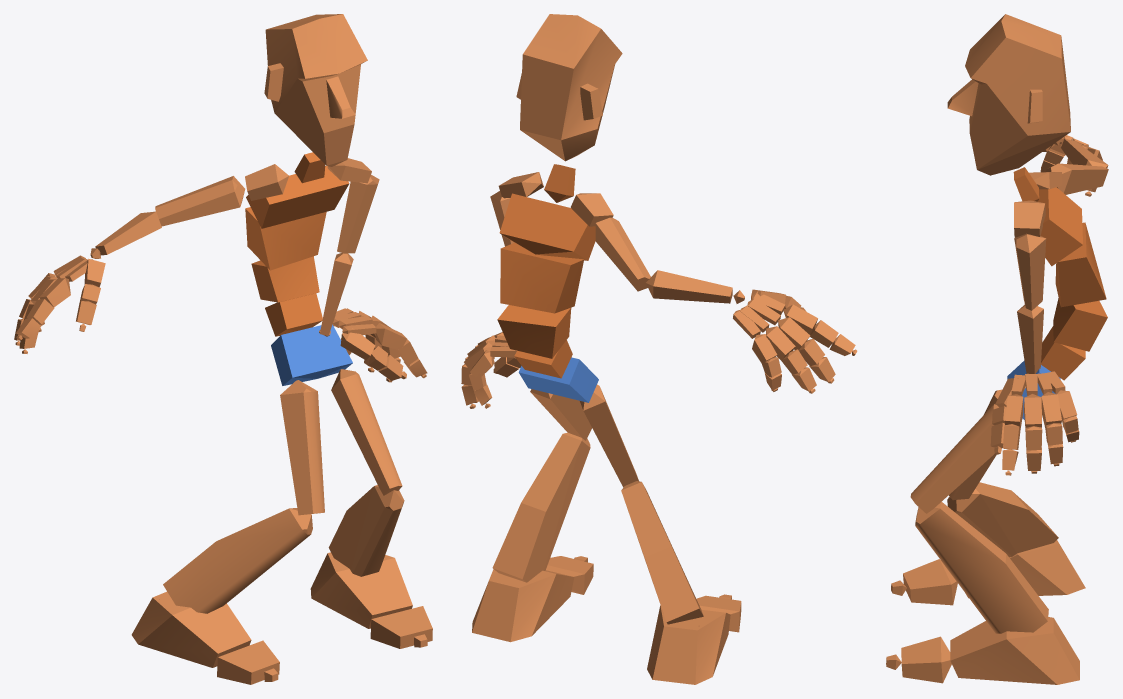
3 renders of one model, left to right at view 1: azimuth 30°, elevation 25°; view 2: azimuth 150°, elevation 25°; view 3: azimuth 270°, elevation 25°, orthographic. The views are drawn at different scales.
Visible parts, largest first — view 1: BOPED_Head, BOPED_R_leg, BOPED_R_foot, BOPED_R_foot01, BOPED_R_legup, BOPED_L_leg, BOPED_L_legup, Bone01, Bone04, Bone05, BOPED_R_arm_upper, Bone03 (+10 smaller); view 2: BOPED_Head, BOPED_L_leg, BOPED_R_foot01, BOPED_R_foot, BOPED_R_leg, Bone04, Bone05, Bone03, BOPED_R_legup, BOPED_R_arm_upper, BOPED_R_arm_fore, Bone01 (+7 smaller); view 3: BOPED_Head, BOPED_L_leg, BOPED_R_foot01, BOPED_R_leg, BOPED_L_legup, BOPED_R_foot, Bone05, Bone04, Bone03, BOPED_R_foot_toe01, BOPED_R_foot_toe04, BOPED_L_arm_upper (+16 smaller).
Boxes of the visible parts, bbox=[...] form: BOPED_Head: bbox=[264, 14, 367, 166]; BOPED_R_leg: bbox=[163, 508, 312, 613]; BOPED_R_foot: bbox=[131, 591, 251, 667]; BOPED_R_foot01: bbox=[310, 552, 412, 628]; BOPED_R_legup: bbox=[280, 380, 324, 515]; BOPED_L_leg: bbox=[328, 485, 404, 576]; BOPED_L_legup: bbox=[331, 369, 402, 495]; Bone01: bbox=[271, 324, 352, 385]; Bone04: bbox=[245, 207, 326, 270]; Bone05: bbox=[246, 166, 349, 228]; BOPED_R_arm_upper: bbox=[155, 176, 245, 226]; Bone03: bbox=[251, 256, 319, 302]; BOPED_Head: bbox=[516, 14, 622, 161]; BOPED_L_leg: bbox=[492, 432, 590, 582]; BOPED_R_foot01: bbox=[472, 569, 574, 642]; BOPED_R_foot: bbox=[647, 605, 730, 684]; BOPED_R_leg: bbox=[621, 481, 703, 624]; Bone04: bbox=[500, 243, 583, 313]; Bone05: bbox=[499, 193, 595, 260]; Bone03: bbox=[497, 305, 571, 358]; BOPED_R_legup: bbox=[580, 384, 638, 487]; BOPED_R_arm_upper: bbox=[595, 217, 650, 291]; BOPED_R_arm_fore: bbox=[646, 270, 732, 303]; Bone01: bbox=[518, 357, 598, 402]; BOPED_Head: bbox=[947, 14, 1070, 175]; BOPED_L_leg: bbox=[915, 501, 1048, 633]; BOPED_R_foot01: bbox=[950, 617, 1079, 684]; BOPED_R_leg: bbox=[947, 482, 1058, 557]; BOPED_L_legup: bbox=[910, 404, 998, 513]; BOPED_R_foot: bbox=[965, 540, 1085, 598]; Bone05: bbox=[1038, 187, 1082, 266]; Bone04: bbox=[1055, 222, 1106, 307]; Bone03: bbox=[1053, 298, 1107, 351]; BOPED_R_foot_toe01: bbox=[903, 559, 957, 605]; BOPED_R_foot_toe04: bbox=[901, 636, 951, 683]; BOPED_L_arm_upper: bbox=[1014, 233, 1046, 310].
Bounding box in the file's own units: 122 × 176 × 56.73.
